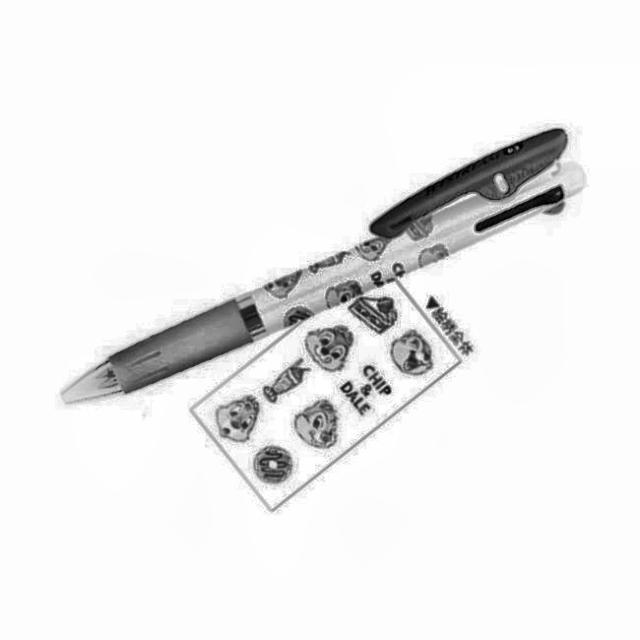Pen: (51, 124, 598, 405)
